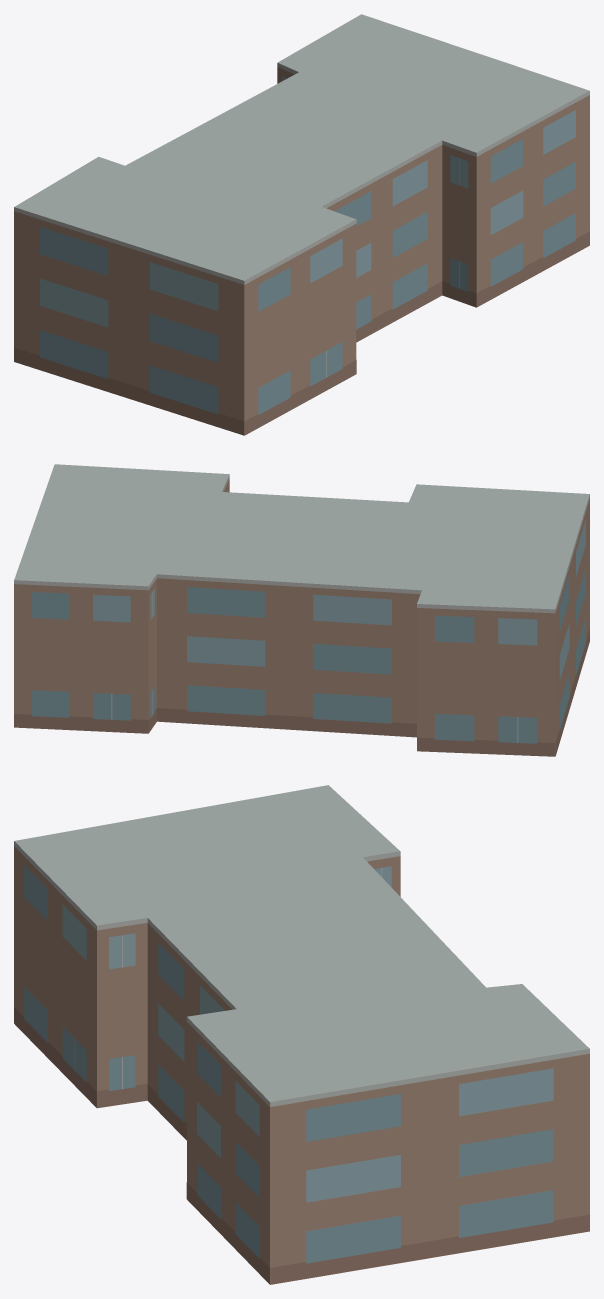
File: survey-upis-32910544.glb
3 renders of one model, top to bottom at view 1: azimuth 30°, elevation 25°; view 2: azimuth 150°, elevation 25°; view 3: azimuth 270°, elevation 25°, orthographic. The views are drawn at different scales.
Parts seen in each view (by area): view 1: survey-upis-32910544.tmp; view 2: survey-upis-32910544.tmp; view 3: survey-upis-32910544.tmp.
Boxes of the visible parts, x1=… form: survey-upis-32910544.tmp: x1=14, y1=14, x2=589, y2=435; survey-upis-32910544.tmp: x1=14, y1=464, x2=589, y2=756; survey-upis-32910544.tmp: x1=14, y1=785, x2=589, y2=1284.
Size of the model in its own units: 34.09 by 9.15 by 26.15.
